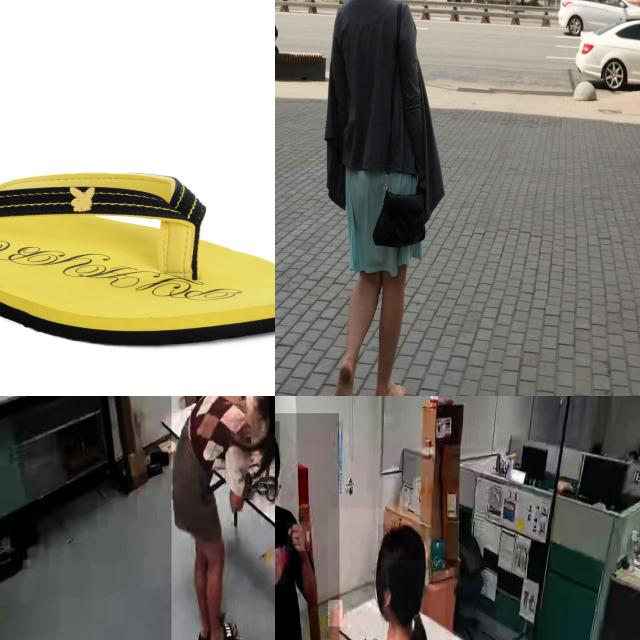Barefoots: (333, 360, 354, 396), (374, 380, 406, 396)
Sandals: (0, 156, 275, 348)
hand_noglove: (287, 522, 310, 552), (275, 544, 285, 585), (328, 600, 343, 627)
head_nohelmet: (378, 524, 426, 561)
person: (171, 396, 275, 640), (327, 508, 445, 640), (275, 413, 339, 640)
